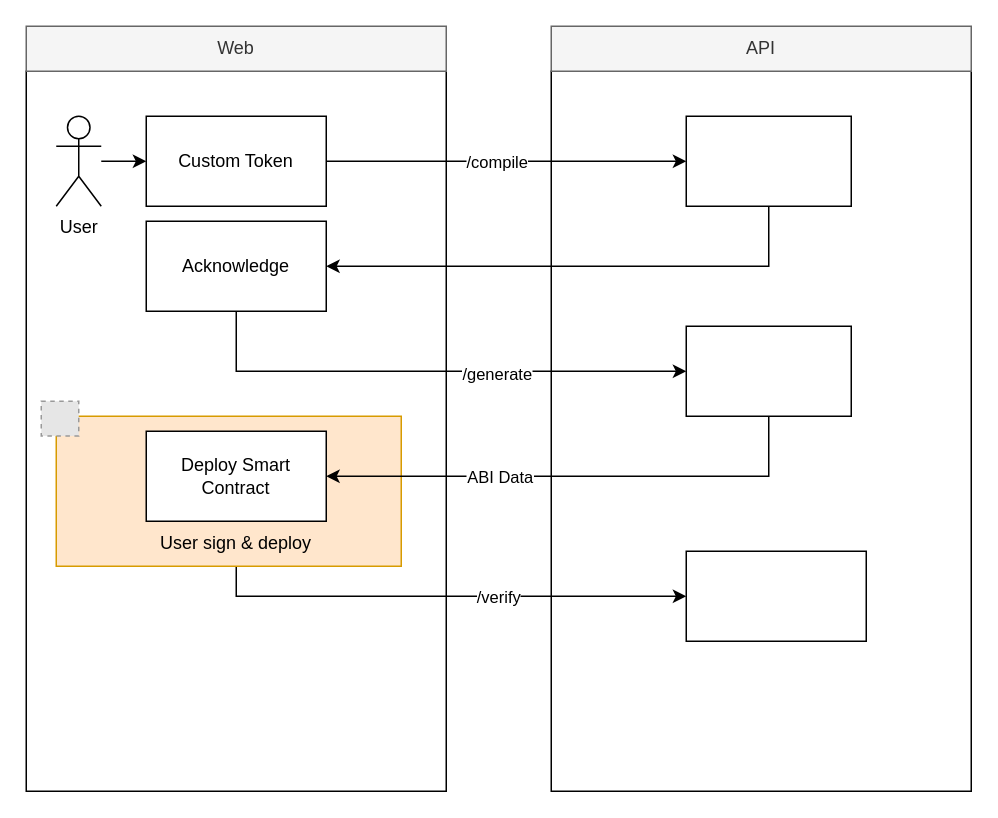
The diagram is 998 pixels wide and 818 high, and some of its shapes have lost their labels. Grey dashed boxes stand in for pictures. The centre of each missing label's shape, as x and y in pixels:
"Compile Smart Contract" goes at point 768,370.
"Generate Smart Contract" goes at point 768,160.
"Verify Smart Contract" goes at point 775,595.
